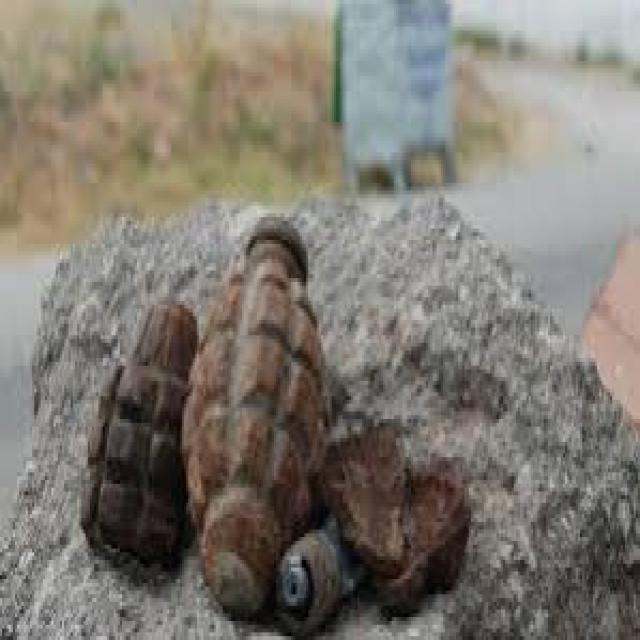grenade: (179, 207, 333, 613)
